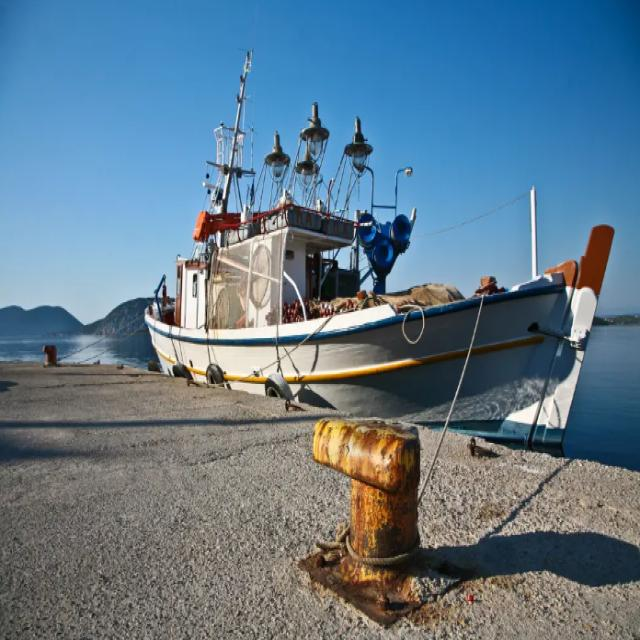fishing boat: (145, 58, 607, 448)
